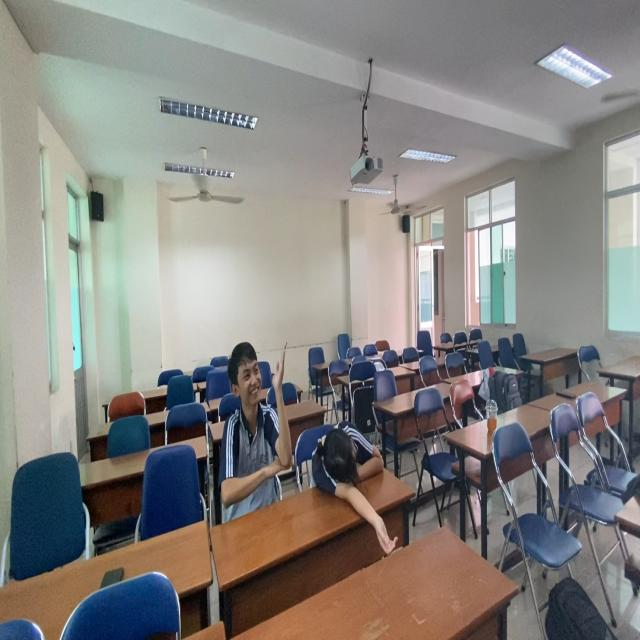raise_hand: (212, 329, 294, 508)
sleep: (312, 417, 406, 561)
